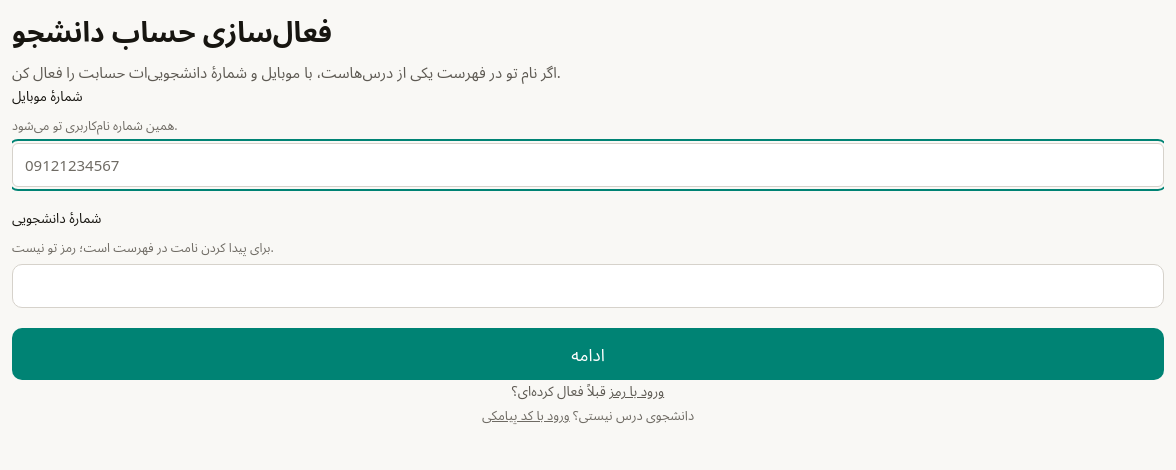
Test case: فعال‌سازی حساب دانشجو › شمارهٔ ناموجود پیام سرور را نشان می‌دهد و در همان گام می‌ماند
The width and height of the screenshot is (1176, 470).
Type "۰۹۱۲۱۲۳۴۵۶۷" into the field labelled "شمارهٔ موبایل" at (588, 165), box left=12, top=143, right=1164, bottom=187
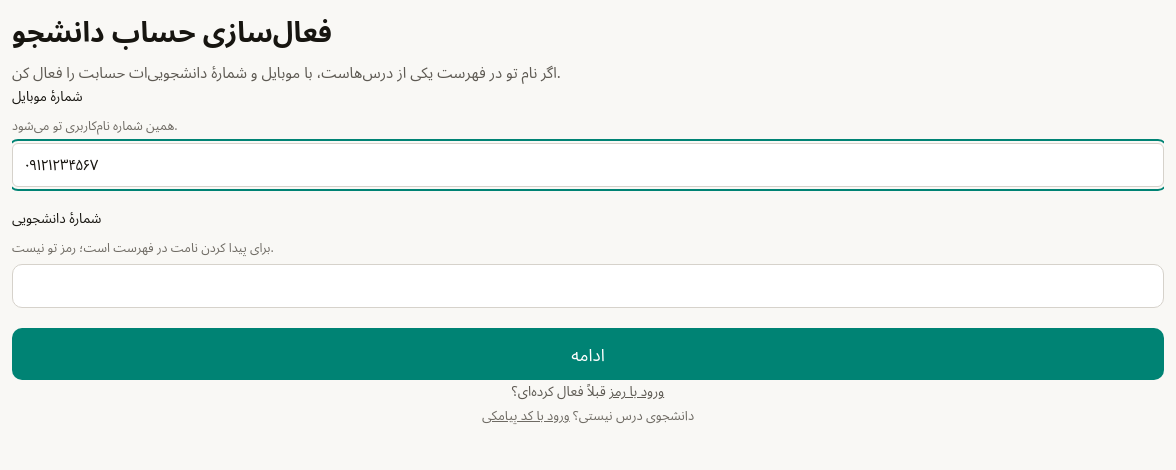
Type "۴۰۲۱۲۳۴۵۶" into the field labelled "شمارهٔ دانشجویی" at (588, 286), box left=12, top=264, right=1164, bottom=308
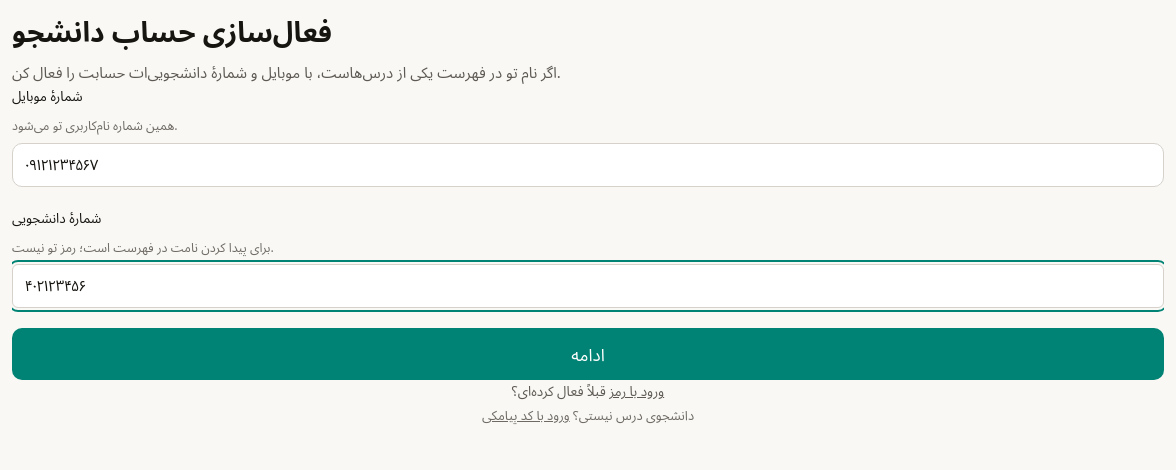
Click the button "ادامه" at (588, 354), box left=12, top=328, right=1164, bottom=380
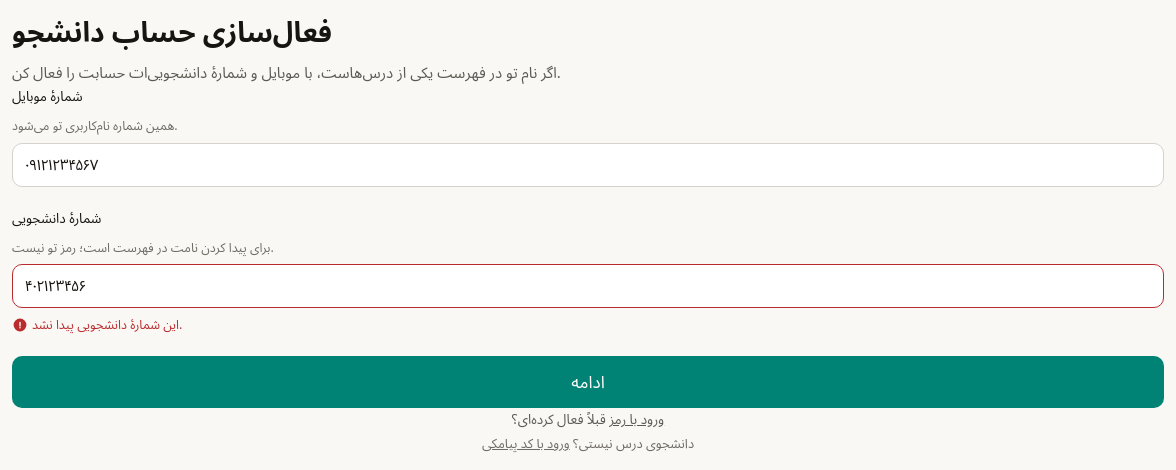
expect the text "این شمارهٔ دانشجویی پیدا نشد." is shown: met, box left=12, top=316, right=182, bottom=333
